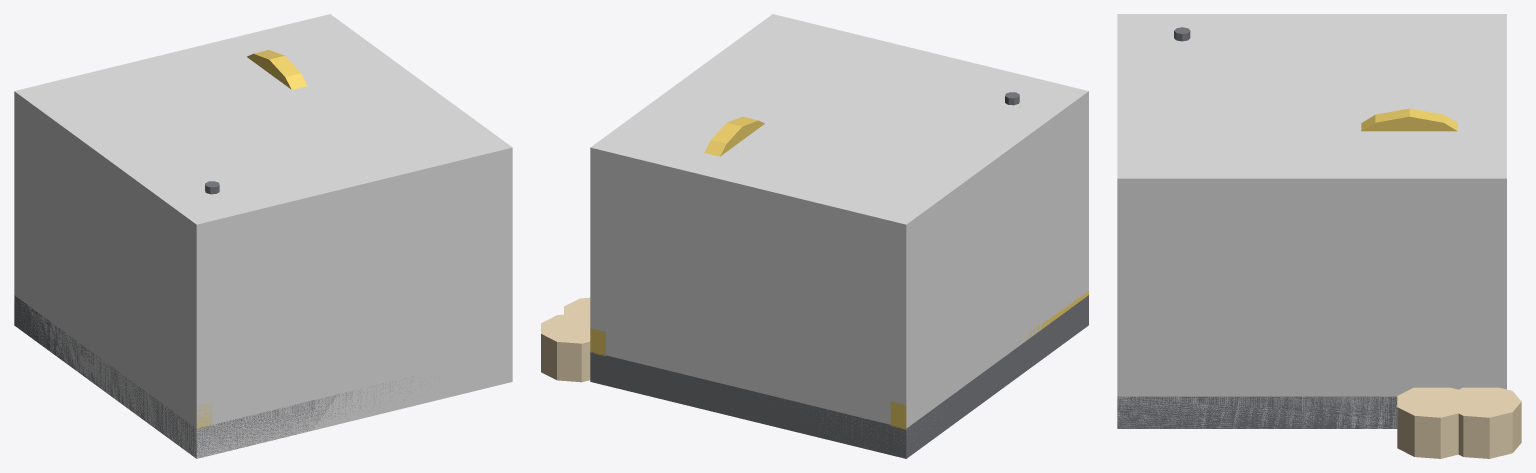
Rendered from AutoChopper.fbx.
3 renders of one model, left to right at view 1: azimuth 30°, elevation 25°; view 2: azimuth 150°, elevation 25°; view 3: azimuth 270°, elevation 25°, orthographic. The views are drawn at different scales.
Parts seen in each view (by area): view 1: COL_Body, Base, Arm; view 2: COL_Body, Base, Arm; view 3: COL_Body, Base, Arm.
Boxes of the visible parts, box(x1,y1,x2,y2) form: COL_Body: box(14, 14, 512, 458); Base: box(14, 181, 412, 458); Arm: box(247, 50, 307, 89); COL_Body: box(590, 14, 1088, 456); Base: box(541, 92, 1088, 458); Arm: box(704, 116, 764, 156); COL_Body: box(1117, 14, 1506, 428); Base: box(1117, 27, 1521, 458); Arm: box(1361, 108, 1457, 131).
Bounding box in the file's own units: 2.84 × 1.8 × 2.49.
